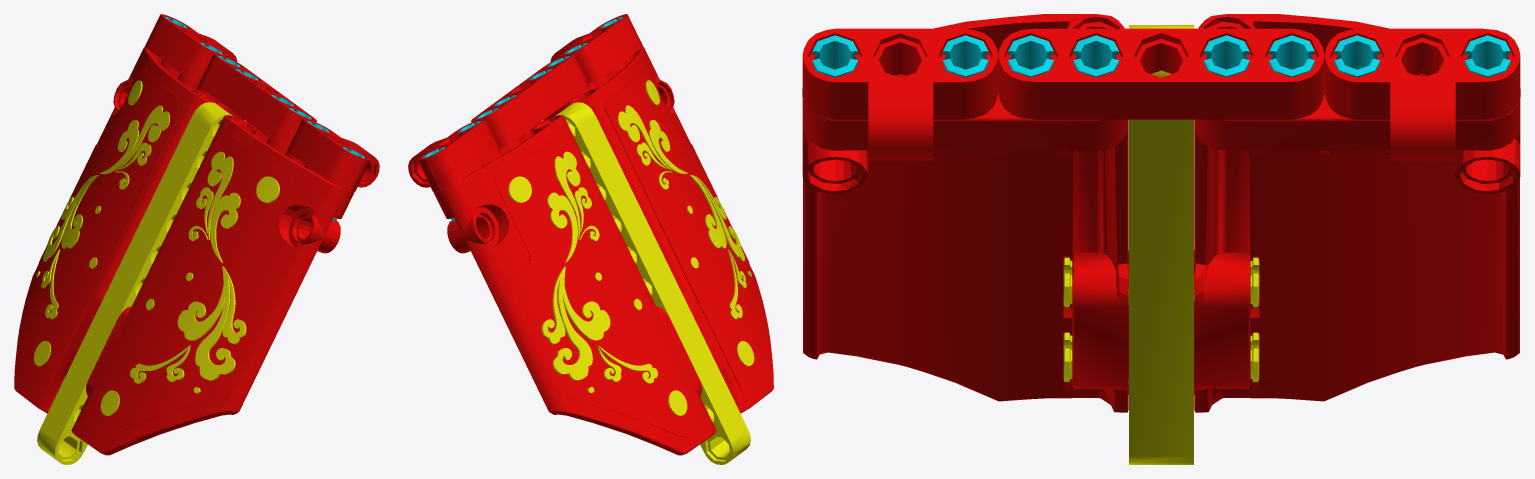
File: shizi_zuo.fbx
3 renders of one model, left to right at view 1: azimuth 30°, elevation 25°; view 2: azimuth 150°, elevation 25°; view 3: azimuth 270°, elevation 25°, orthographic. The views are drawn at different scales.
Visible parts, largest first — view 1: zuo; view 2: zuo; view 3: zuo.
Boxes of the visible parts, bbox=[...] form: zuo: bbox=[14, 14, 379, 464]; zuo: bbox=[408, 14, 773, 464]; zuo: bbox=[802, 14, 1520, 464].
Size of the model in its own units: 49.41 by 61.25 by 66.02.
